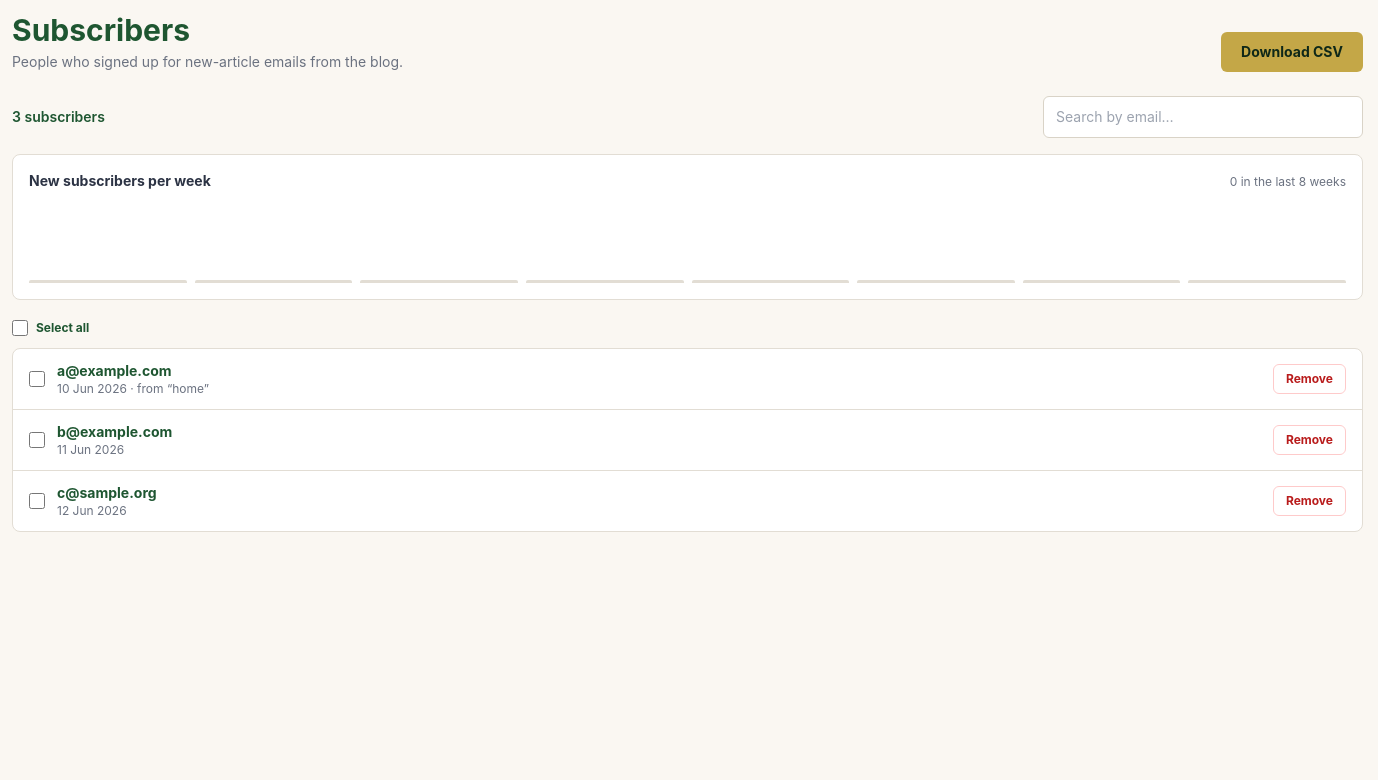
selected subscribers can be removed together after confirming
Later steps or results of the test are not shown.
expect the text "a@example.com" is shown: met, box [57, 362, 172, 379]
Click the checkbox named "select a@example.com" at (37, 379), box [29, 371, 45, 387]
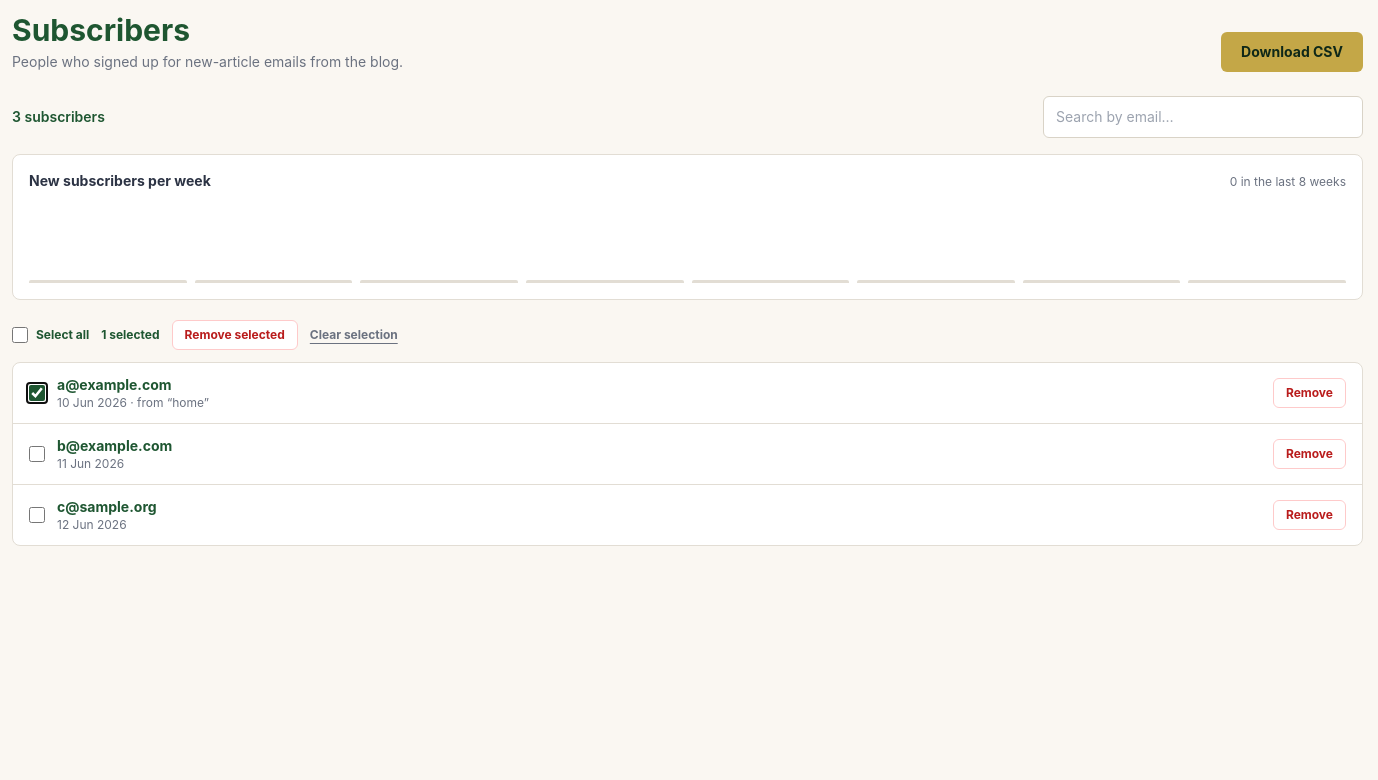
Click the checkbox named "select b@example.com" at (37, 454), box [29, 446, 45, 462]
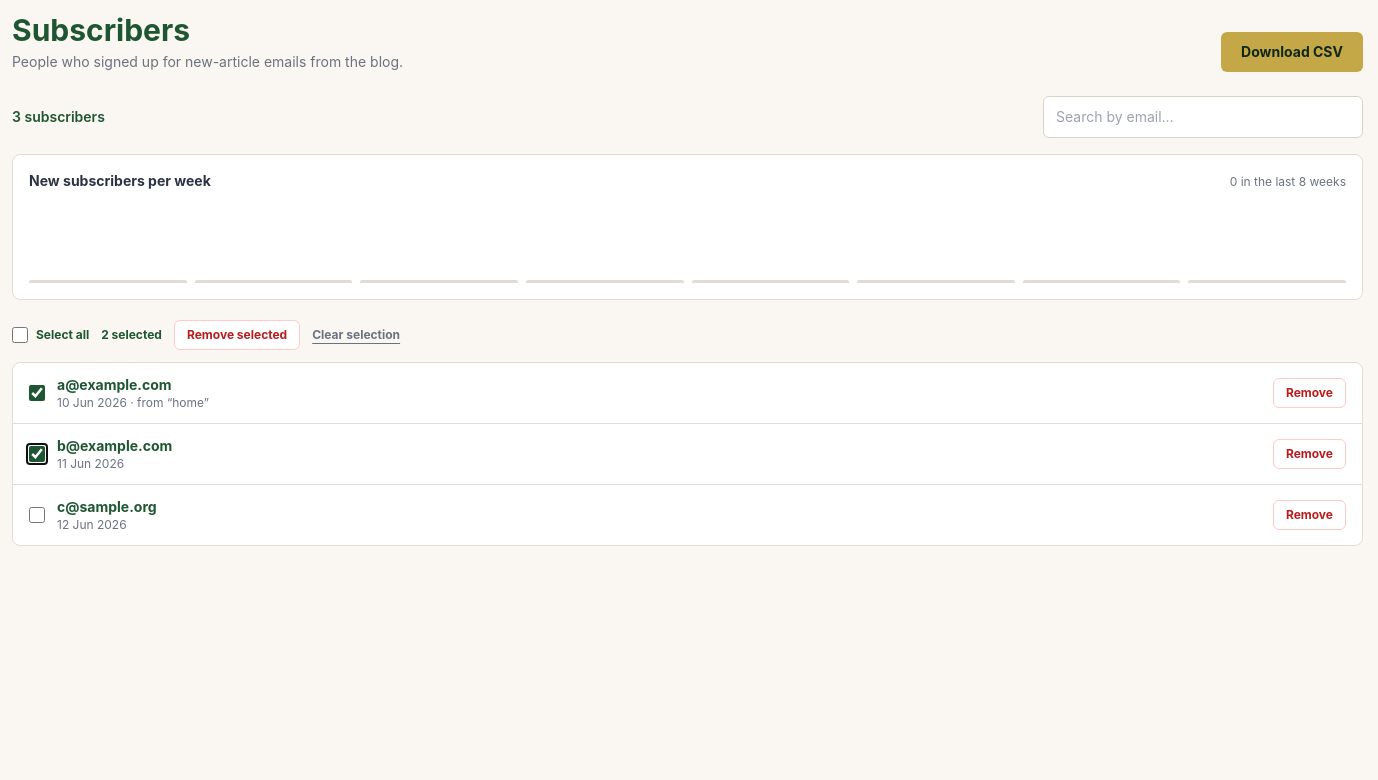
expect the text "2 selected" is shown: met, box [101, 327, 162, 343]
